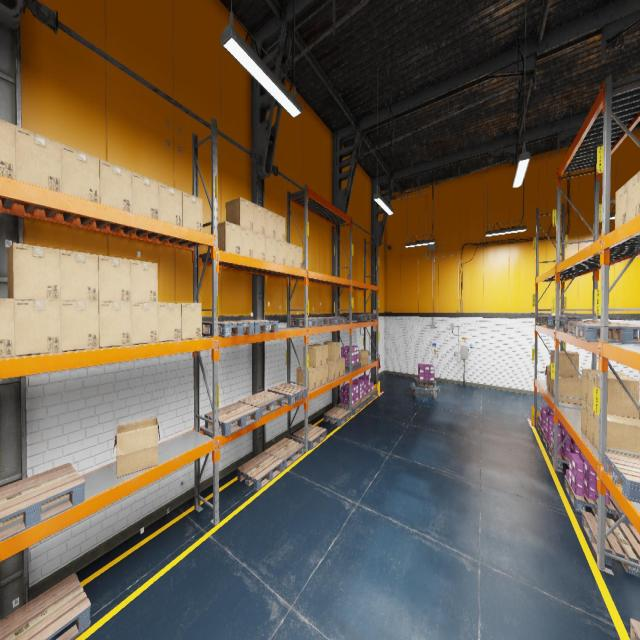box: (15, 125, 62, 193), (7, 242, 60, 300), (113, 417, 160, 478), (14, 300, 61, 356), (588, 372, 640, 418), (61, 144, 100, 204), (594, 414, 640, 459), (60, 301, 99, 351), (60, 250, 98, 301), (100, 159, 132, 212), (582, 368, 628, 404), (98, 254, 131, 302), (99, 302, 131, 347), (132, 172, 158, 220), (130, 260, 158, 302), (131, 302, 158, 344), (159, 182, 182, 226), (211, 221, 240, 254), (158, 302, 181, 342), (0, 119, 15, 179), (226, 197, 253, 230), (0, 298, 14, 357), (182, 191, 202, 232), (554, 375, 582, 404), (181, 303, 202, 339), (550, 351, 579, 376), (550, 372, 578, 397), (627, 170, 640, 222), (615, 181, 627, 229), (296, 366, 316, 390), (303, 345, 322, 367), (240, 226, 253, 258), (253, 203, 265, 235), (253, 231, 265, 260), (312, 344, 328, 365), (587, 406, 595, 447), (323, 342, 340, 361), (265, 209, 276, 238), (265, 235, 276, 263), (581, 400, 588, 438), (276, 214, 285, 242), (276, 239, 285, 265), (286, 242, 294, 266), (294, 245, 302, 268), (331, 359, 340, 378), (328, 360, 335, 381), (359, 350, 368, 366), (316, 366, 322, 388), (322, 364, 328, 384), (545, 365, 550, 385), (340, 358, 345, 377), (548, 369, 550, 393)
pallets: (0, 462, 85, 542), (0, 573, 91, 639), (582, 510, 640, 578), (564, 475, 630, 527), (205, 402, 259, 436), (604, 453, 640, 503), (237, 452, 283, 491), (264, 437, 304, 470), (238, 390, 284, 418), (576, 324, 640, 344), (568, 322, 638, 338), (548, 443, 584, 469), (268, 383, 307, 405), (202, 321, 254, 337), (293, 424, 326, 449), (231, 320, 278, 334), (563, 320, 616, 332), (323, 406, 351, 426), (541, 316, 582, 326), (338, 400, 363, 414), (291, 318, 323, 328), (536, 315, 570, 324), (414, 378, 436, 388), (630, 618, 640, 639), (313, 317, 335, 326), (323, 317, 348, 324), (345, 362, 361, 372), (358, 395, 371, 407), (348, 314, 370, 321), (542, 430, 549, 451), (366, 389, 378, 401), (537, 420, 543, 437), (370, 314, 377, 319)
